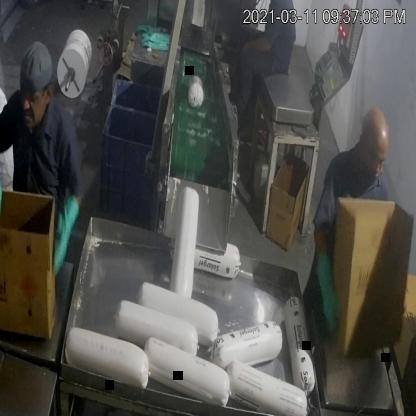glove: (306, 237, 352, 350), (46, 183, 84, 275), (0, 148, 13, 224)
no_glove: (238, 30, 272, 60)
